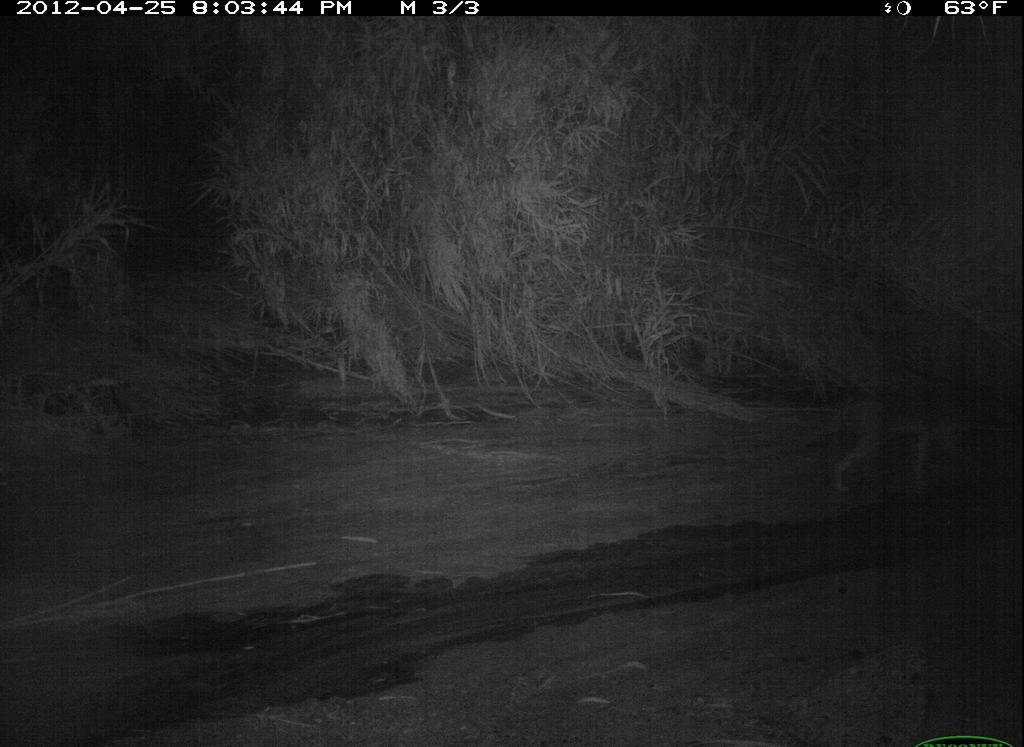coyote: (788, 372, 976, 507)
